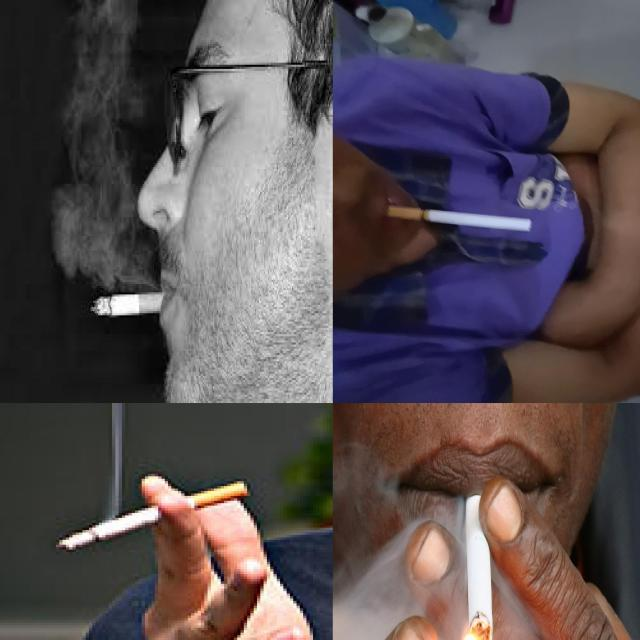smoke: (55, 480, 250, 552), (464, 474, 494, 640), (386, 206, 534, 232), (91, 290, 175, 318)
